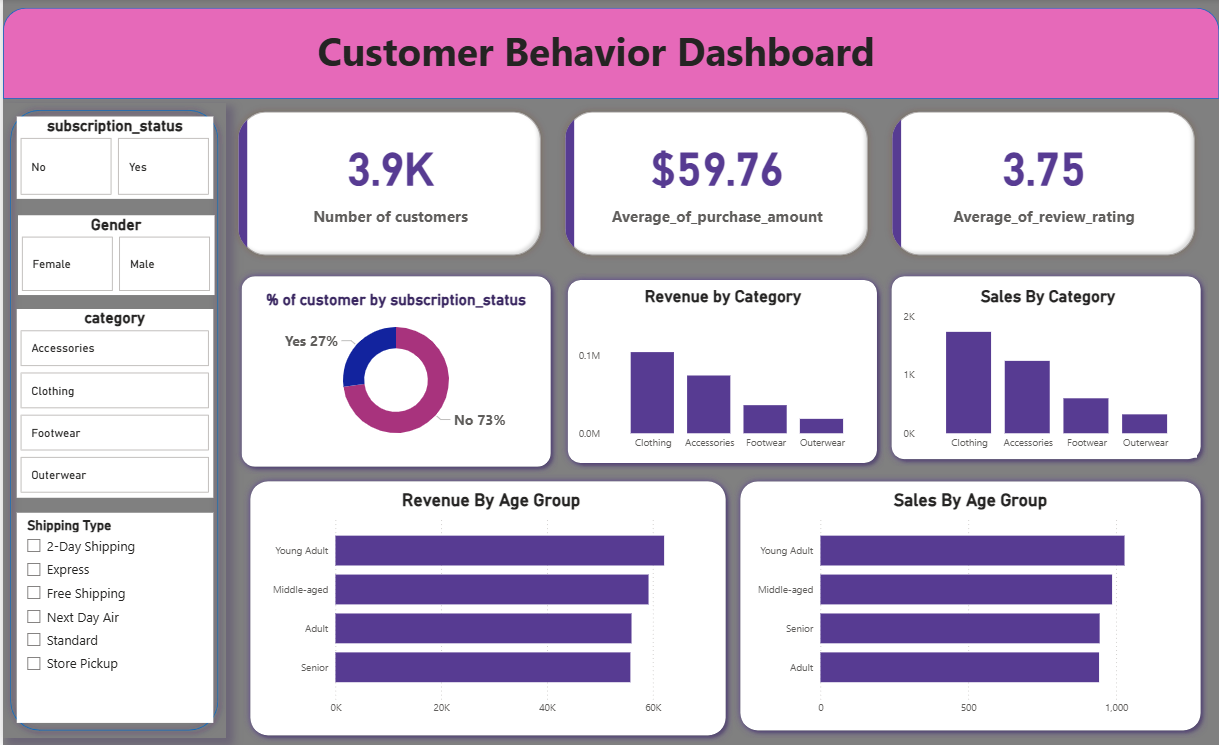

Layout of this report page (visuals, bound fields, positions):
{"tool":"powerbi","page":{"name":"Page 1","canvas":[1500,920],"ordinal":0},"visuals":[{"type":"cardVisual","fields":{"Data":["public customer.Number of customers","public customer.Average_of_purchase_amount","public customer.Average_of_review_rating"]},"box":[274.4,123.3,1213.2,209.7],"z":0},{"type":"shape","box":[0,10.8,1499.9,112.5],"z":1000},{"type":"textbox","box":[0,26.2,1462.9,118.7],"z":2000},{"type":"shape","box":[285.2,333,399.3,252.8],"z":3000},{"type":"donutChart","title":"% of customer by subscription_status","fields":{"Category":["public customer.subscription_status"],"Y":["CountNonNull(public customer.customer_id)"]},"box":[300.6,359.2,368.4,200.4],"z":4000},{"type":"shape","box":[687.5,337.6,399.3,243.6],"z":5000},{"type":"shape","box":[1086.8,333,399.3,243.6],"z":6000},{"type":"columnChart","title":"Revenue by Category","fields":{"Y":["Sum(public customer.purchase_amount)"],"Category":["public customer.category"]},"box":[704.5,354.6,366.9,211.2],"z":7000},{"type":"columnChart","title":"Sales By Category","fields":{"Y":["CountNonNull(public customer.customer_id)"],"Category":["public customer.category"]},"box":[1105.3,354.6,366.9,211.2],"z":8000},{"type":"shape","box":[0,127.9,274.4,783.1],"z":9000},{"type":"advancedSlicerVisual","fields":{"Values":["public customer.subscription_status"]},"box":[17,144.9,242,101.7],"z":10000},{"type":"advancedSlicerVisual","title":"Gender","fields":{"Values":["public customer.gender"]},"box":[18.5,266.7,242,98.7],"z":11000},{"type":"advancedSlicerVisual","fields":{"Values":["public customer.category"]},"box":[17,382.3,242,232.8],"z":12000},{"type":"slicer","fields":{"Values":["public customer.shipping_type"]},"box":[17,633.6,242,259],"z":13000},{"type":"shape","box":[296,585.8,604.3,331.4],"z":14000},{"type":"shape","box":[900.3,585.8,585.8,325.3],"z":15000},{"type":"clusteredBarChart","title":"Sales By Age Group","fields":{"Y":["CountNonNull(public customer.purchase_amount)"],"Category":["public customer.age_group"]},"box":[920.3,605.8,545.7,286.7],"z":16000},{"type":"clusteredBarChart","title":"Revenue By Age Group","fields":{"Y":["Sum(public customer.purchase_amount)"],"Category":["public customer.age_group"]},"box":[322.2,605.8,559.6,286.7],"z":17000}]}

Visuals, with their boxes in screenshot pixels (x1, y1, x2, y2), scaled from the page's 1500x920 canvas onto the 1219x745 screenshot:
cardVisual - public customer.Number of customers x public customer.Average_of_purchase_amount: region(223, 100, 1209, 270)
shape: region(0, 9, 1218, 100)
textbox: region(0, 21, 1189, 117)
shape: region(232, 270, 556, 474)
"% of customer by subscription_status" donutChart: region(244, 291, 544, 453)
shape: region(559, 273, 883, 471)
shape: region(883, 270, 1208, 467)
"Revenue by Category" columnChart: region(573, 287, 871, 458)
"Sales By Category" columnChart: region(898, 287, 1196, 458)
shape: region(0, 104, 223, 738)
advancedSlicerVisual - public customer.subscription_status: region(14, 117, 210, 200)
"Gender" advancedSlicerVisual: region(15, 216, 212, 296)
advancedSlicerVisual - public customer.category: region(14, 310, 210, 498)
slicer - public customer.shipping_type: region(14, 513, 210, 723)
shape: region(241, 474, 732, 743)
shape: region(732, 474, 1208, 738)
"Sales By Age Group" clusteredBarChart: region(748, 491, 1191, 723)
"Revenue By Age Group" clusteredBarChart: region(262, 491, 717, 723)
